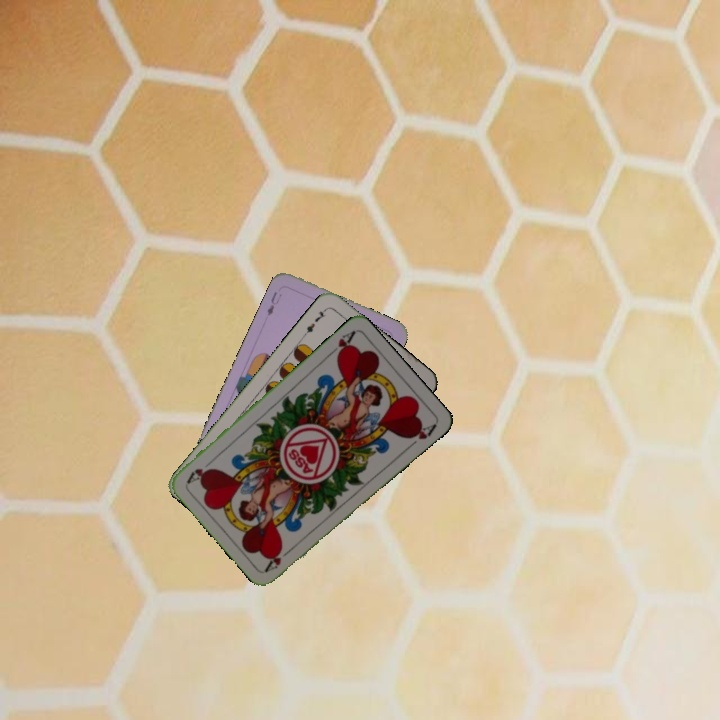E7: (299, 304, 329, 339)
EU: (263, 287, 284, 319)
HA: (324, 327, 358, 360), (261, 543, 296, 574)
